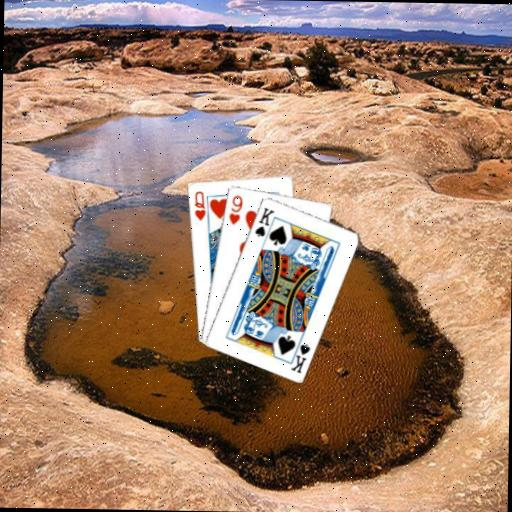9H: (226, 192, 245, 226)
KS: (286, 336, 312, 375), (252, 204, 276, 238)
QH: (191, 188, 208, 222)
